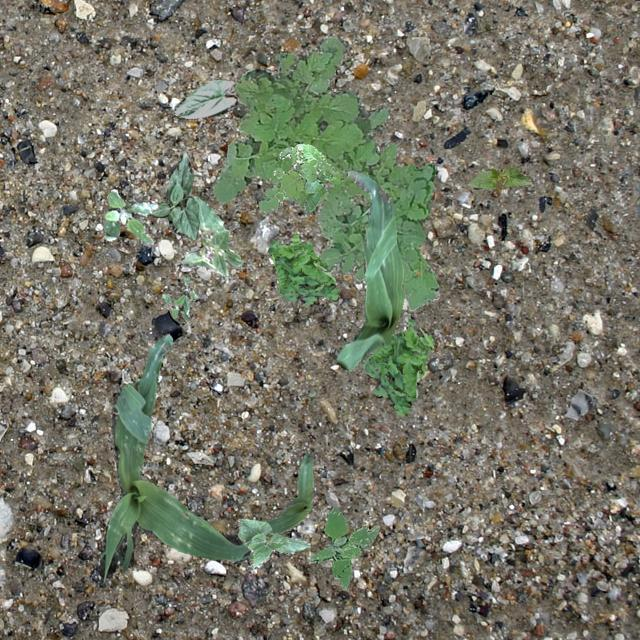crop: (98, 332, 250, 578), (336, 170, 404, 370), (173, 66, 275, 118), (180, 194, 242, 274), (150, 150, 198, 238), (266, 450, 314, 532), (236, 518, 310, 568), (466, 164, 530, 188)
weed: (210, 34, 438, 310), (362, 314, 434, 416), (258, 142, 340, 212), (310, 506, 378, 590), (266, 232, 338, 304), (102, 190, 156, 246), (160, 274, 198, 318)
